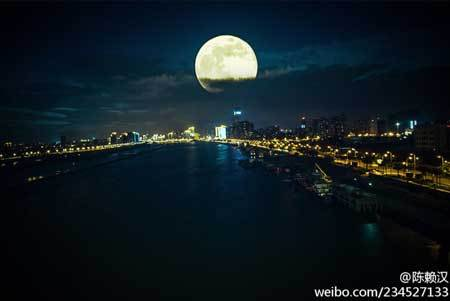moon: (194, 33, 258, 91)
